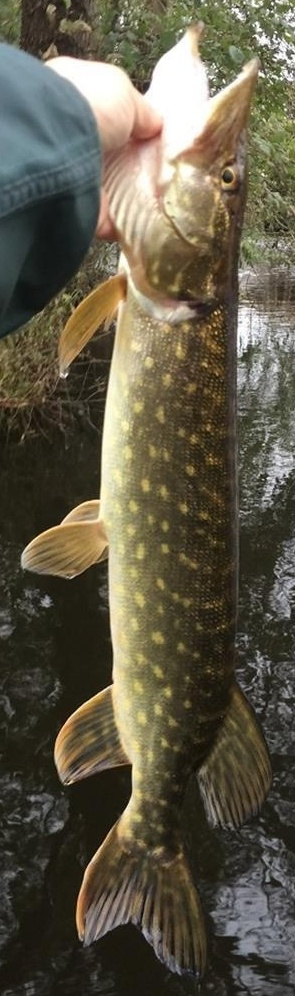Esox lucius: (20, 20, 275, 976)
